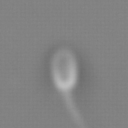normal: (62, 90, 87, 128)
